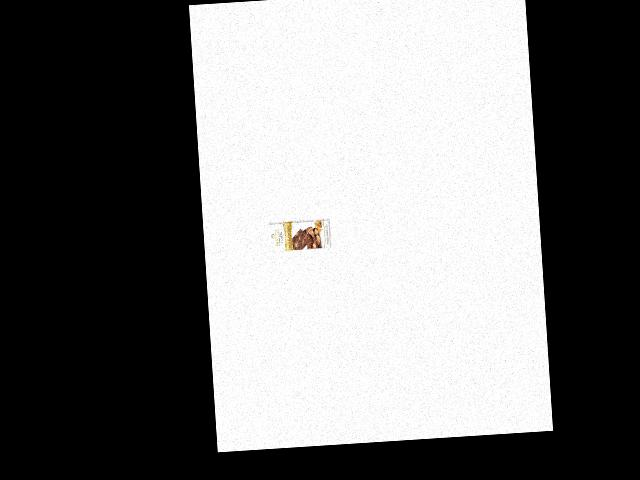chocolate: (263, 213, 331, 258)
